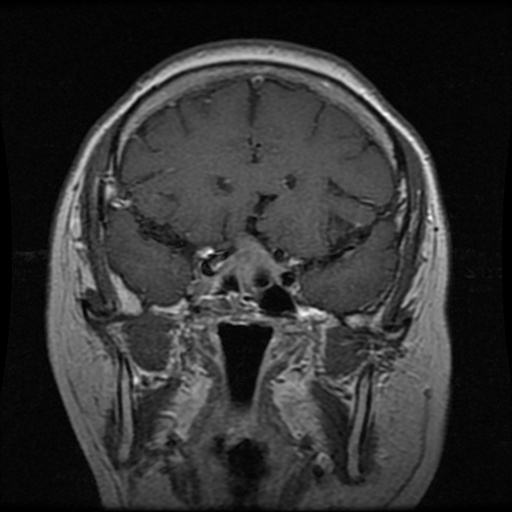pituitary: (217, 232, 280, 295)
